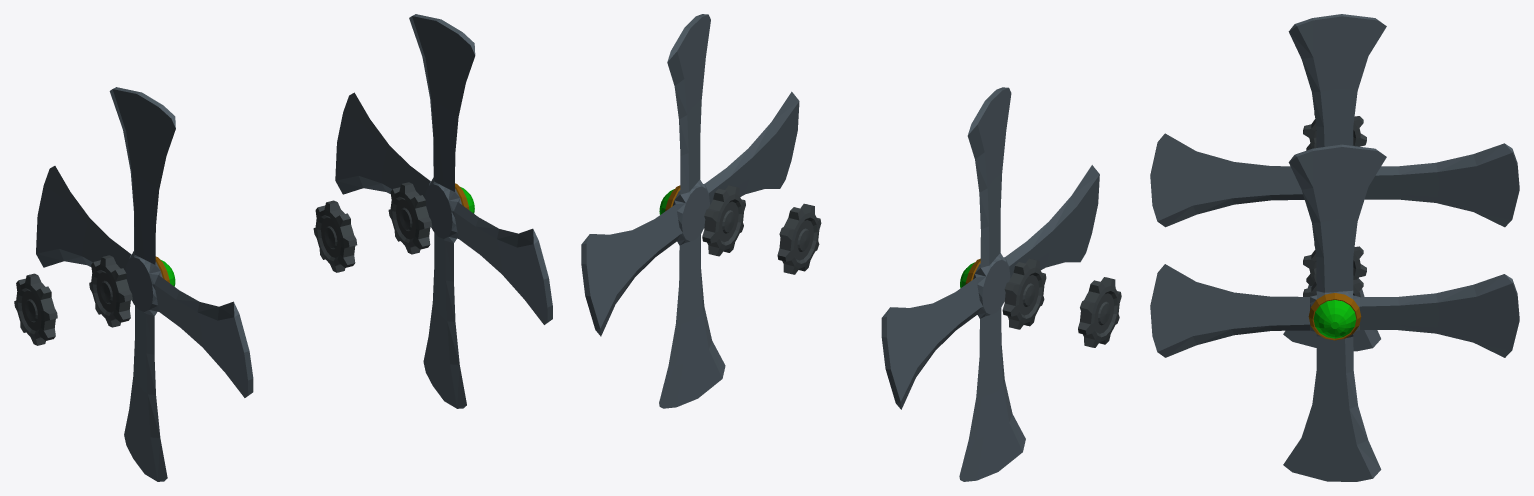
File: HeliceP_R.obj
The picture shows the model from 3 angles, left to right: view 1: azimuth 30°, elevation 25°; view 2: azimuth 150°, elevation 25°; view 3: azimuth 270°, elevation 25°; orthographic projection. The views are drawn at different scales.
Parts seen in each view (by area): view 1: Helices_Pequenas_R_Sphere.003; view 2: Helices_Pequenas_R_Sphere.003; view 3: Helices_Pequenas_R_Sphere.003.
Part boxes in pixels (x1,y1,x2,y2): Helices_Pequenas_R_Sphere.003: (14,14,552,481); Helices_Pequenas_R_Sphere.003: (581,14,1121,481); Helices_Pequenas_R_Sphere.003: (1150,14,1519,481).
Size of the model in its own units: 2.95 by 2.39 by 2.39.
1 material, 1 textured.
